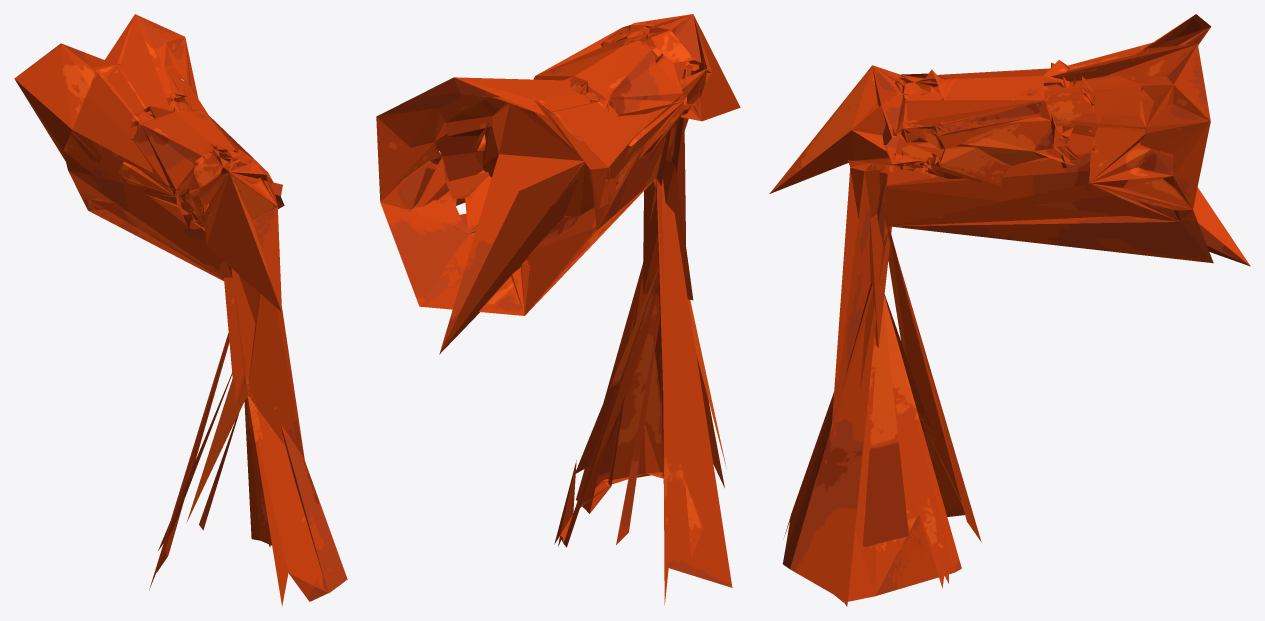
File: shove-horn.glb
3 views of the same model, side by side, from view 1: azimuth 30°, elevation 25°; view 2: azimuth 150°, elevation 25°; view 3: azimuth 270°, elevation 25° (orthographic). The views are drawn at different scales.
Visible parts, largest first — view 1: world; view 2: world; view 3: world.
Boxes of the visible parts, <box> form: world: <box>14,14,347,606</box>; world: <box>376,14,740,604</box>; world: <box>769,14,1250,606</box>.
Size of the model in its own units: 0.233 by 0.6 by 0.4853.
1 material, 1 textured.
